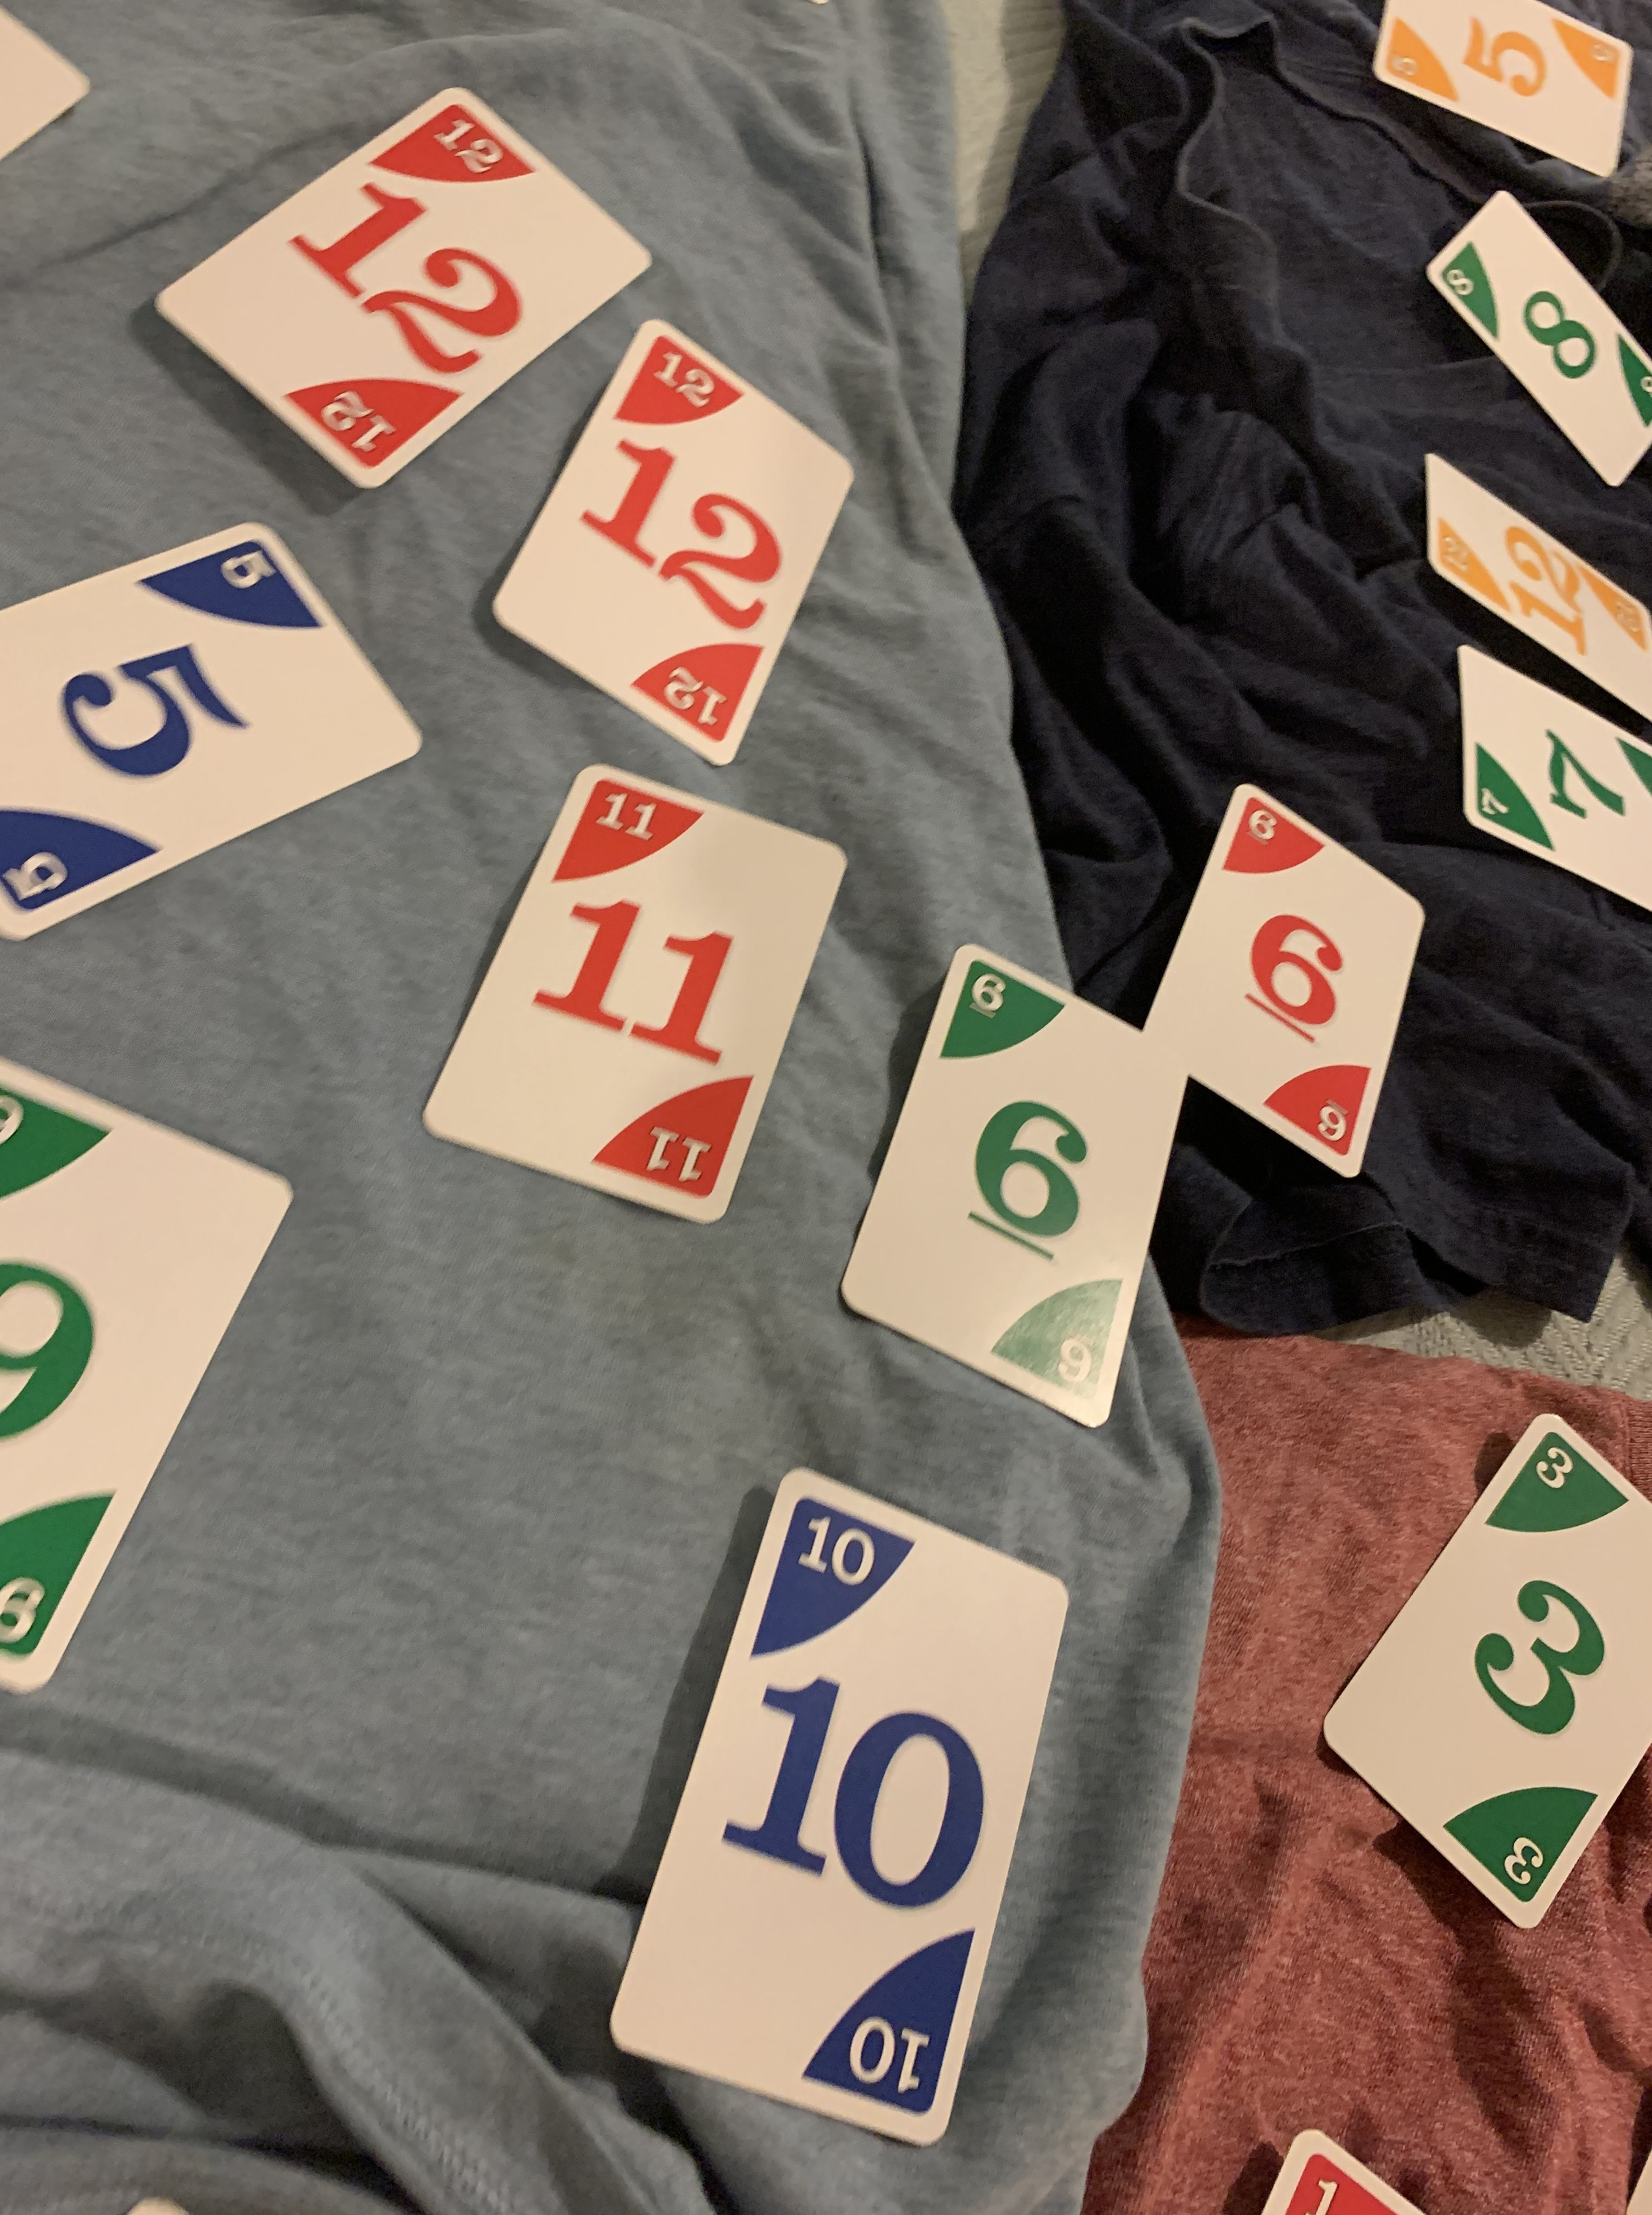eleven: (410, 757, 850, 1238)
five: (5, 526, 443, 956)
six: (823, 941, 1196, 1444), (1144, 774, 1439, 1189)
ten: (599, 1451, 1088, 2163)
three: (1310, 1399, 1652, 1946)
twelve: (147, 89, 649, 510), (493, 319, 880, 781)
